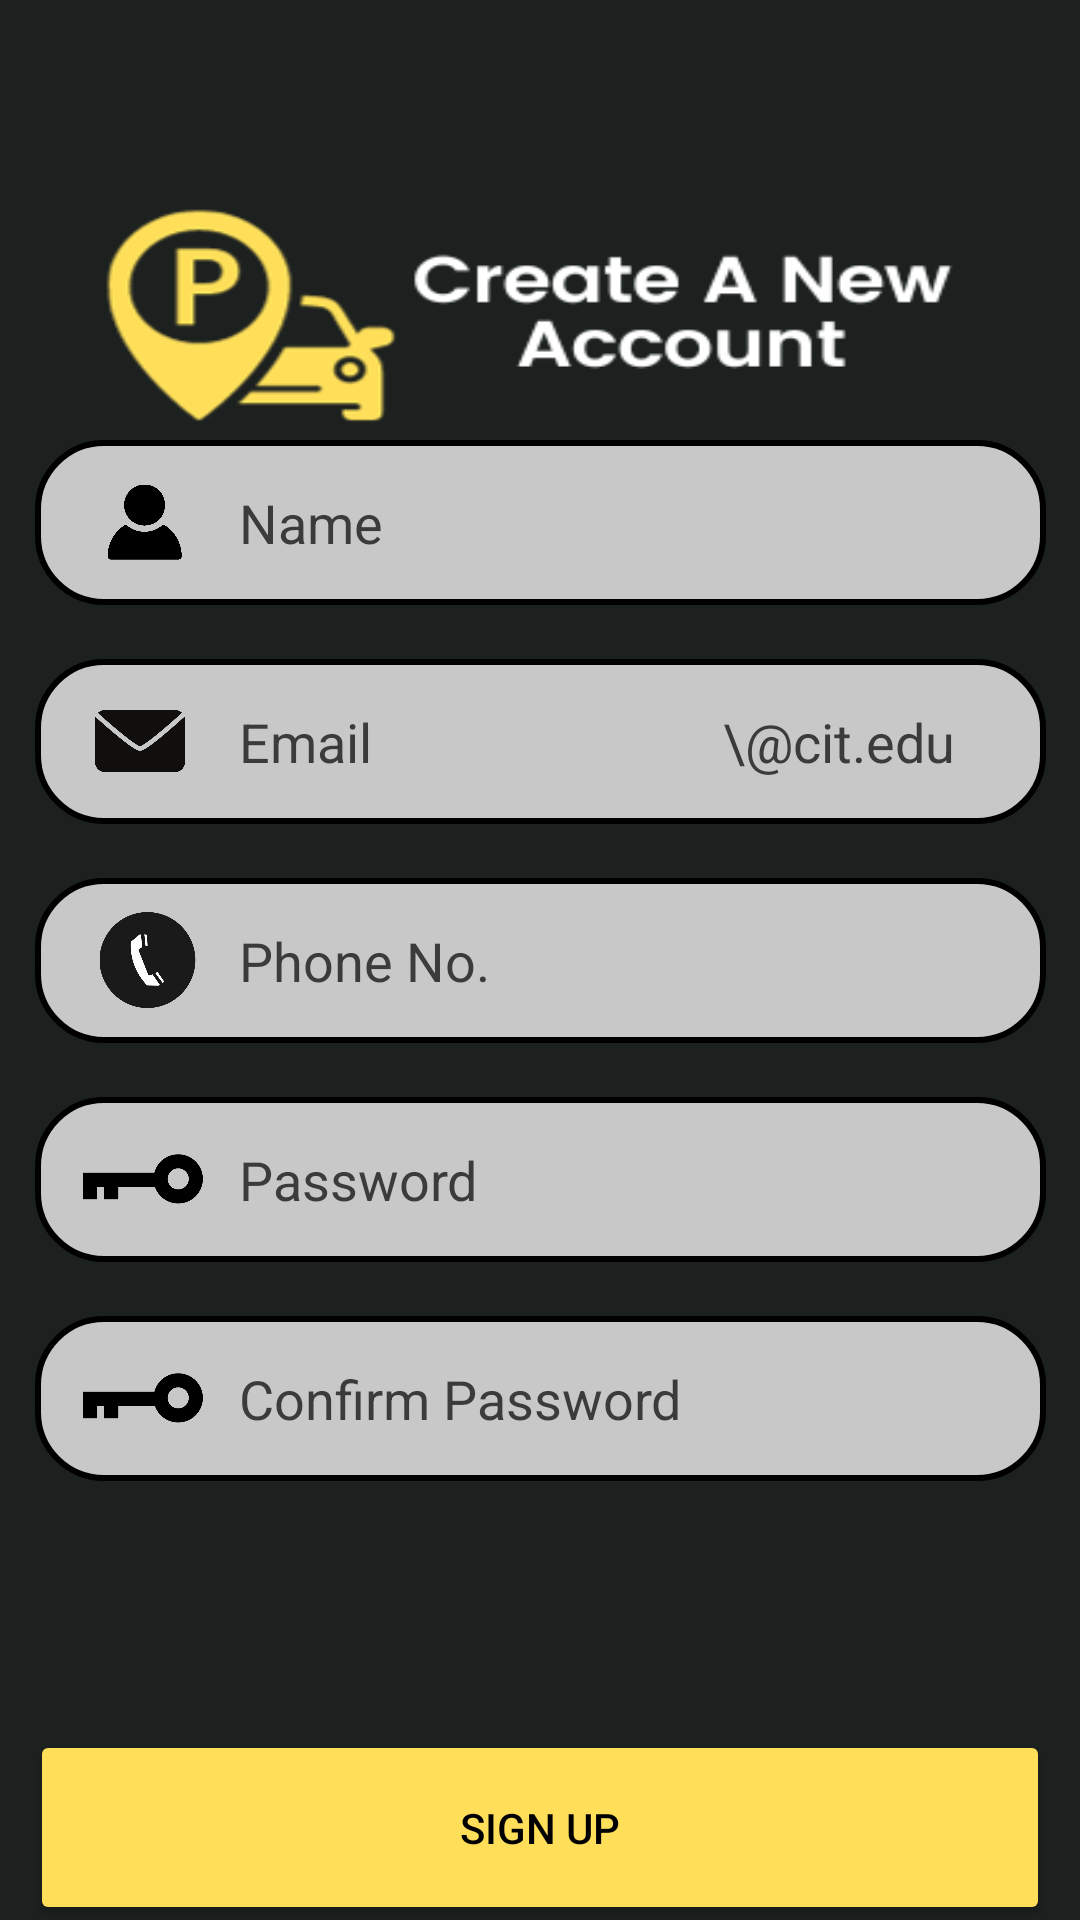

Screen size 1080 × 1920. Icon name, then its center in pixels as (x,y):
loginpass: (143,1179), (143,1398)
loginuser: (145,522)
